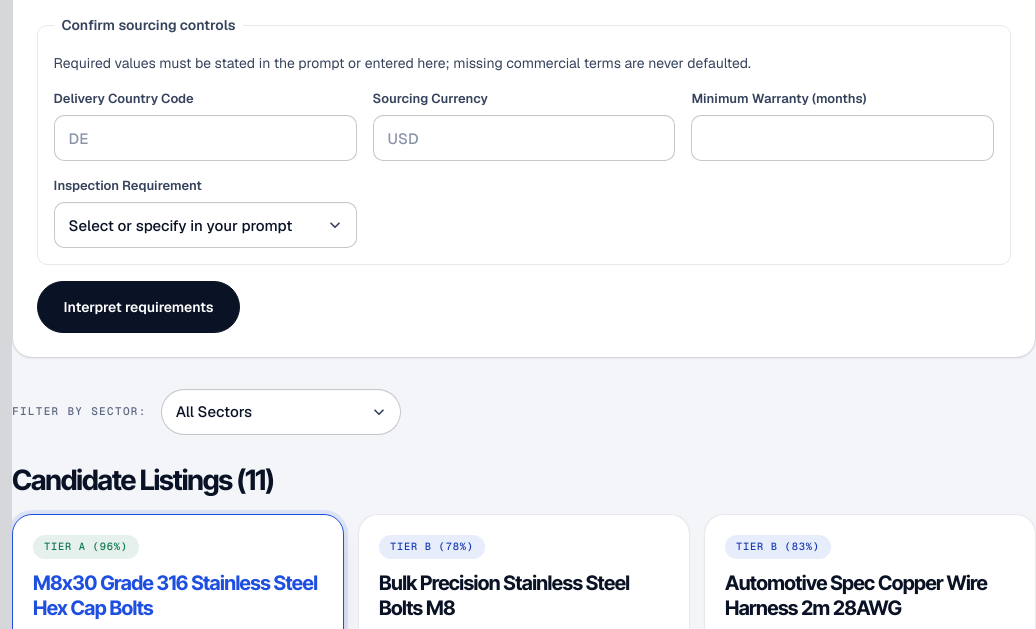
Test: SourcingHub Frontend Test Suite › Tier 2: UI Boundary & Error Handling › 2.1 displays validation error when submitting empty requirement input
(page scrolled)
Click the button "Interpret requirements". click: (138, 307)
box: [36,281,240,333]
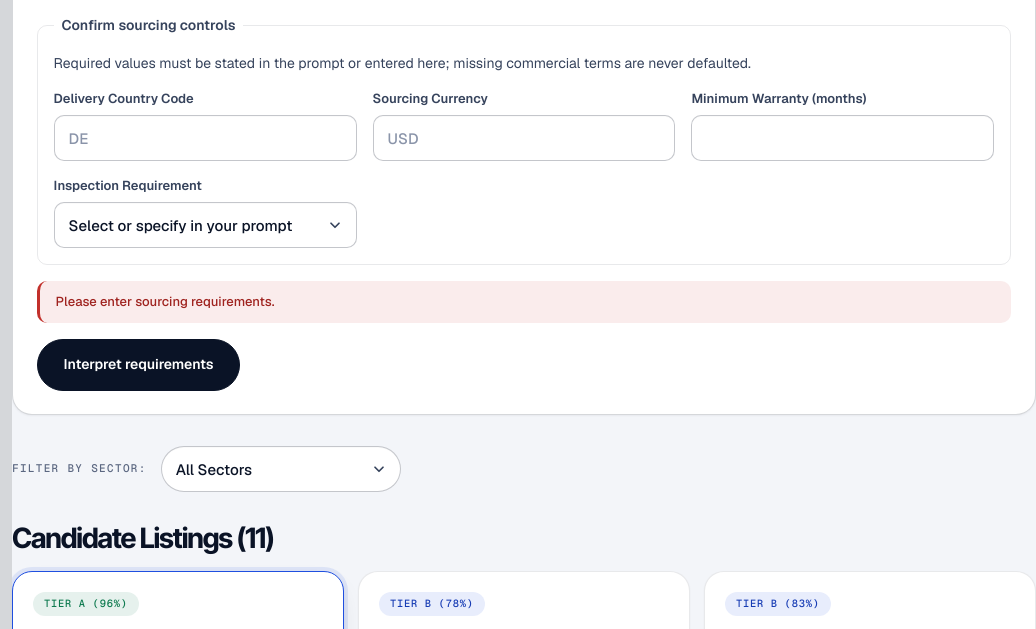
expect the message shows "Please enter sourcing requirements": met, box [56,293,274,310]
